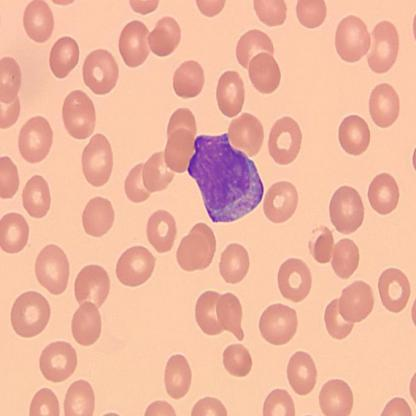Promyelocyte: (188, 134, 264, 224)
